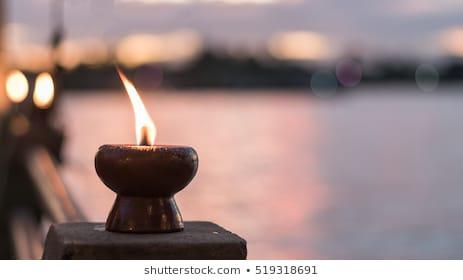fire: (117, 67, 158, 147)
